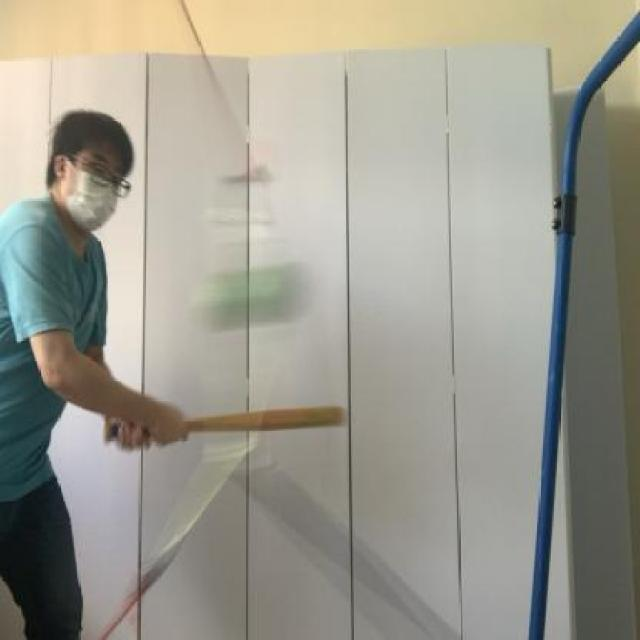baseball: (196, 251, 307, 338)
